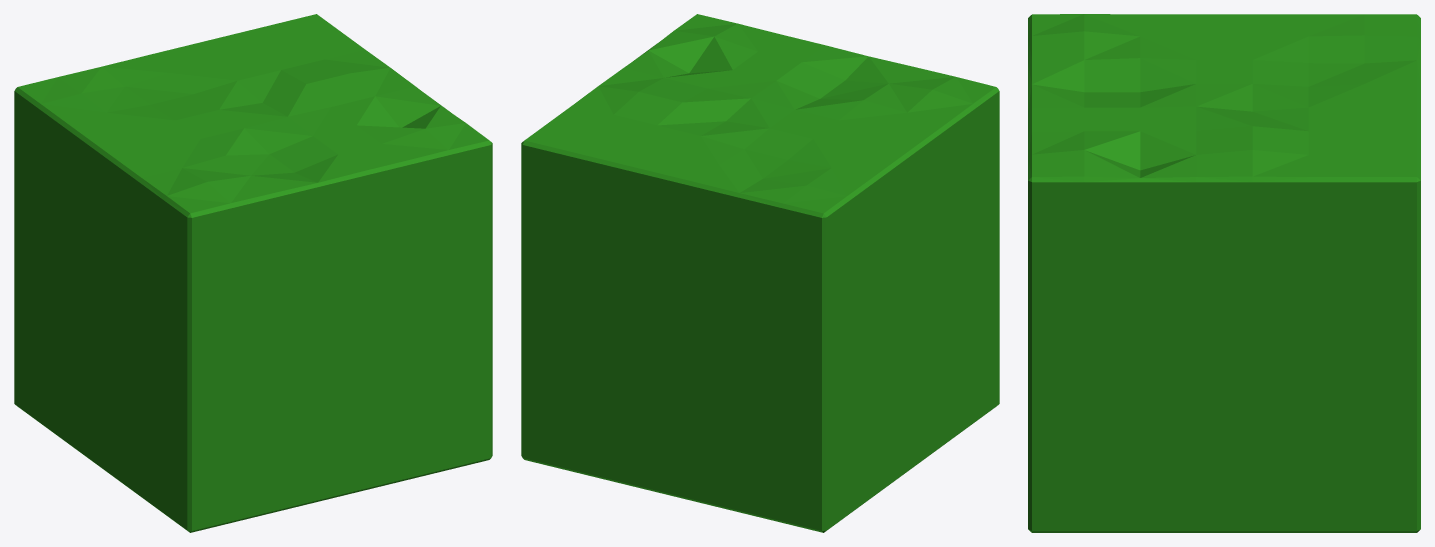
Rendered from floor3.obj.
3 views of the same model, side by side, from view 1: azimuth 30°, elevation 25°; view 2: azimuth 150°, elevation 25°; view 3: azimuth 270°, elevation 25° (orthographic). The views are drawn at different scales.
Parts seen in each view (by area): view 1: Floor3; view 2: Floor3; view 3: Floor3.
Part boxes in pixels (left/top/right/bottom): Floor3: left=14, top=14, right=492, bottom=532; Floor3: left=521, top=14, right=999, bottom=532; Floor3: left=1028, top=14, right=1420, bottom=532.
Size of the model in its own units: 2 by 2.03 by 2.
